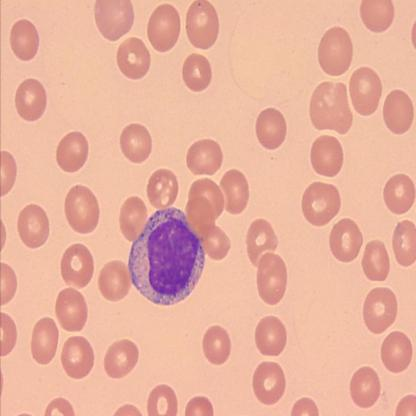Myelocyte: (129, 205, 207, 306)
